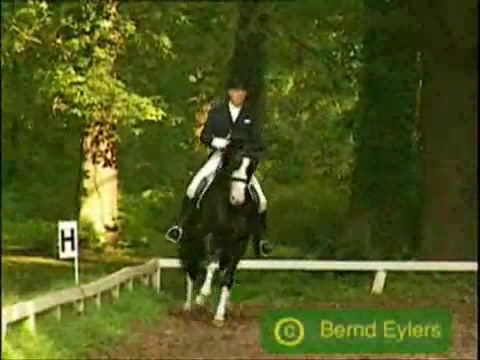horse: (176, 140, 274, 327)
